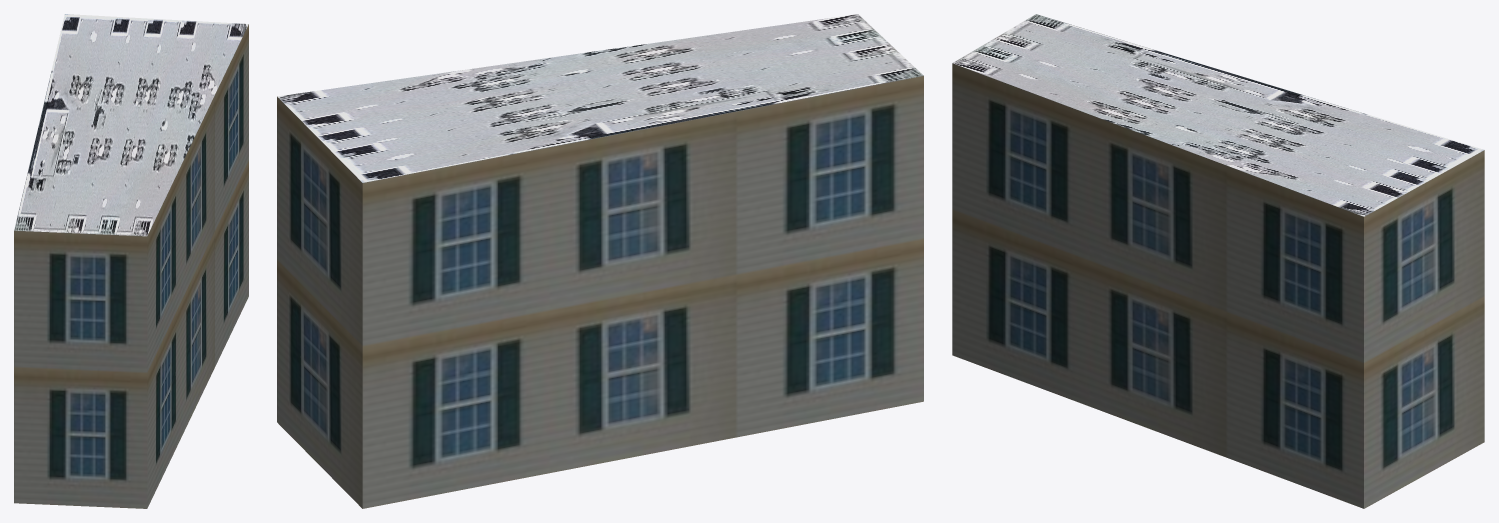
The model's file is ResTex__3282.fbx.
3 views of the same model, side by side, from view 1: azimuth 30°, elevation 25°; view 2: azimuth 150°, elevation 25°; view 3: azimuth 270°, elevation 25° (orthographic). The views are drawn at different scales.
Parts seen in each view (by area): view 1: CityEngineMaterial_7_m, CityEngineMaterial_m; view 2: CityEngineMaterial_7_m, CityEngineMaterial_m; view 3: CityEngineMaterial_7_m, CityEngineMaterial_m.
Boxes of the visible parts, x1=… form: CityEngineMaterial_7_m: x1=14, y1=24, x2=248, y2=508; CityEngineMaterial_m: x1=14, y1=14, x2=248, y2=236; CityEngineMaterial_7_m: x1=277, y1=75, x2=923, y2=508; CityEngineMaterial_m: x1=277, y1=14, x2=923, y2=182; CityEngineMaterial_7_m: x1=952, y1=63, x2=1484, y2=508; CityEngineMaterial_m: x1=952, y1=14, x2=1483, y2=216.
Bounding box in the file's own units: 8.93 × 6 × 9.91.
2 materials, 2 textured.
